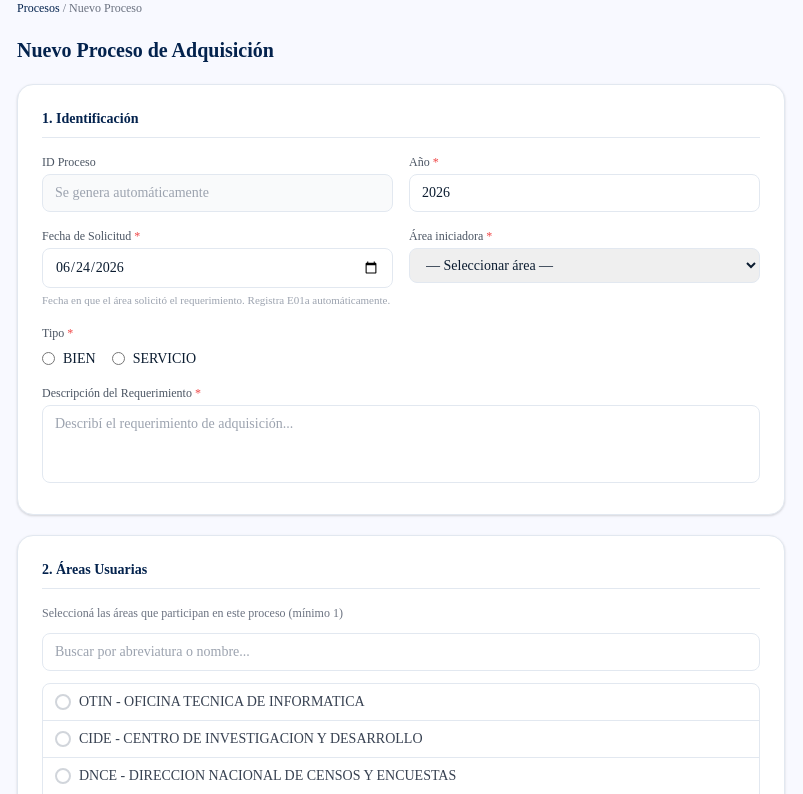
Scenario: S3 — AreaSelector buscador filtra dependencias › busqueda vacía muestra todas las dependencias
Escribir y luego borrar
Type "OTIN" into the search field with placeholder "Buscar por abreviatura o nombre..." at {"x": 401, "y": 652}, box [42,632,760,670]
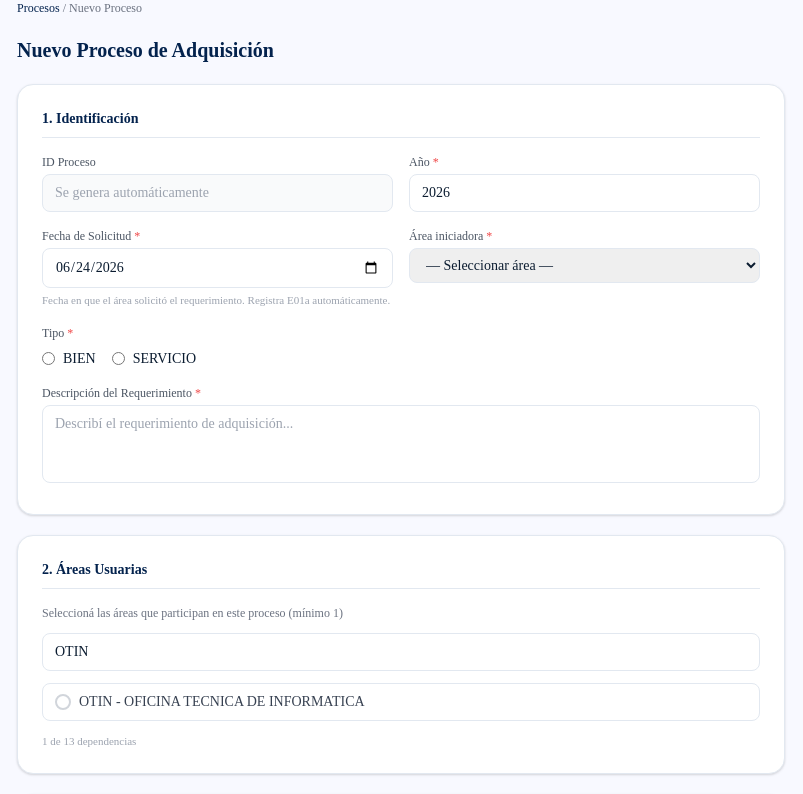
Clear the search field with placeholder "Buscar por abreviatura o nombre..." at {"x": 401, "y": 652}, box [42,632,760,670]
(page scrolled)
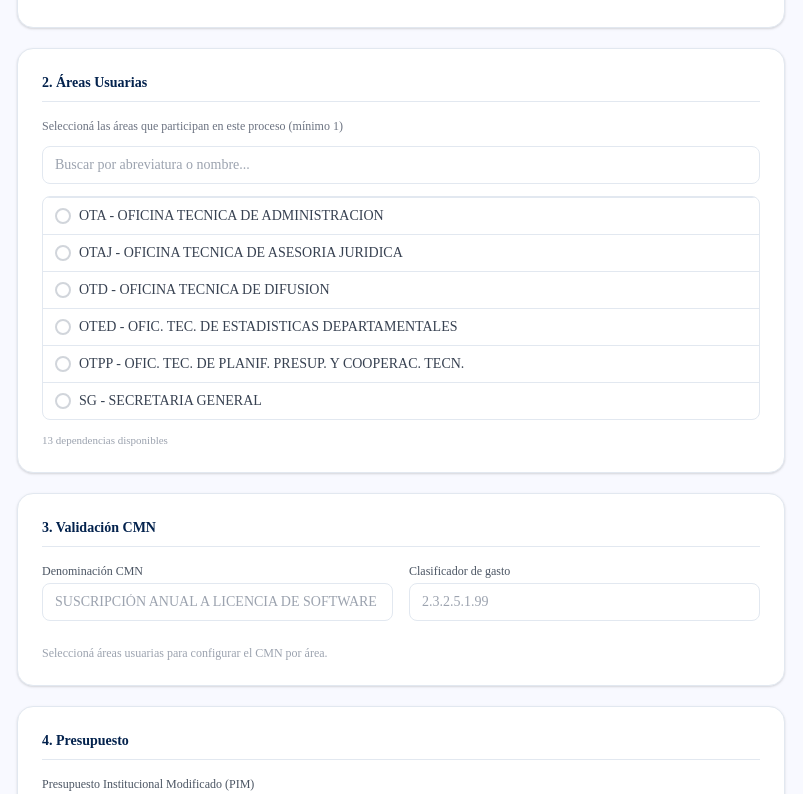
Now the button with aria-label "Area SG" is shown, box [43,382,759,418]
